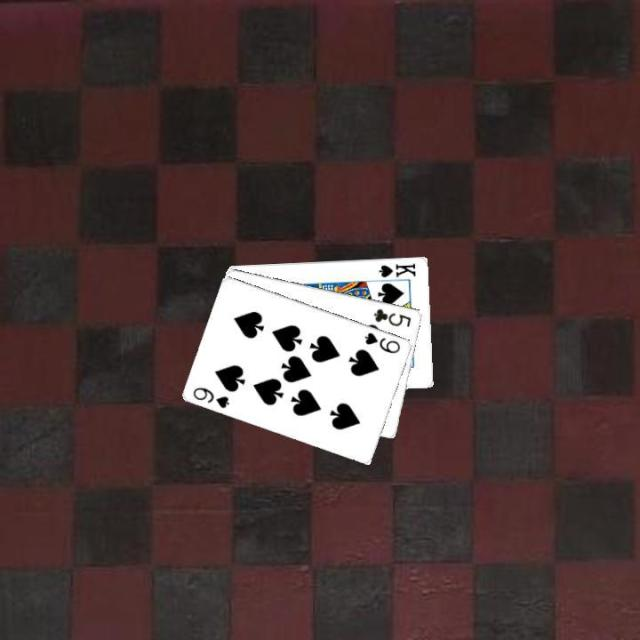5C: (370, 305, 413, 328)
9S: (361, 328, 403, 355), (189, 383, 231, 410)
KS: (375, 259, 418, 278)
